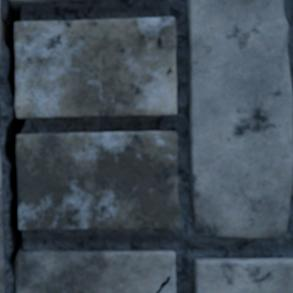brick: (187, 0, 292, 237), (15, 17, 176, 117), (17, 132, 178, 229), (16, 250, 175, 292), (195, 258, 292, 292), (0, 140, 4, 292), (10, 0, 80, 2), (0, 14, 1, 33)
crack: (0, 2, 26, 290), (155, 275, 170, 292)
